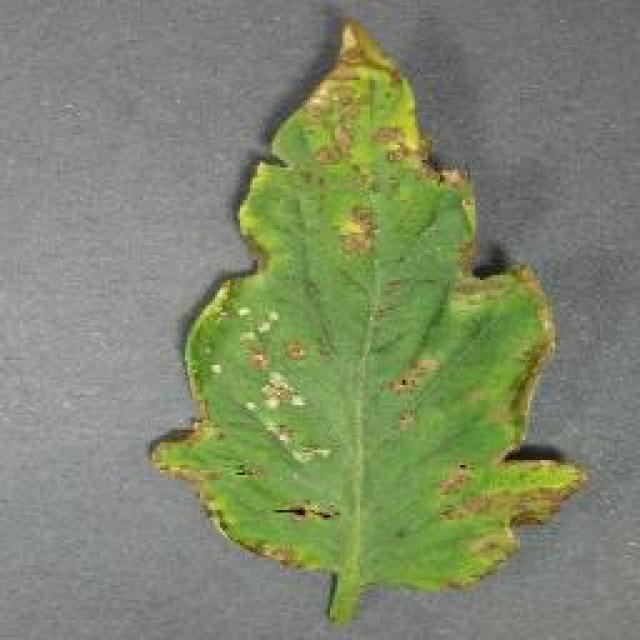Tomato bacterial spot leaf: (132, 7, 592, 596)
